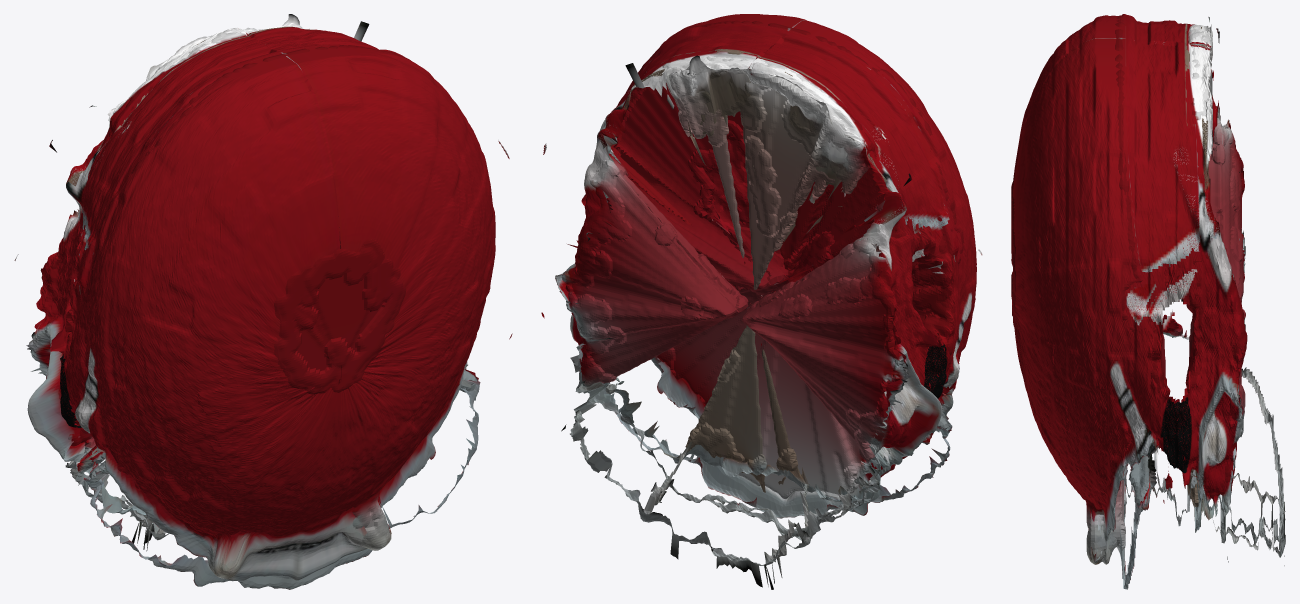
Rendered from volume2_mesh.glb.
The picture shows the model from 3 angles, left to right: view 1: azimuth 30°, elevation 25°; view 2: azimuth 150°, elevation 25°; view 3: azimuth 270°, elevation 25°; orthographic projection. The views are drawn at different scales.
Visible parts, largest first — view 1: ipn, fill; view 2: fill, ipn; view 3: ipn, fill.
Boxes of the visible parts, x1=… form: ipn: x1=14, y1=14, x2=512, y2=589; fill: x1=44, y1=28, x2=477, y2=567; fill: x1=562, y1=20, x2=963, y2=502; ipn: x1=541, y1=14, x2=982, y2=589; ipn: x1=1012, y1=14, x2=1285, y2=589; fill: x1=1011, y1=15, x2=1247, y2=562.
Size of the model in its own units: 1.88 by 1.97 by 0.9421.
Materials: 2 (1 with a texture image).
